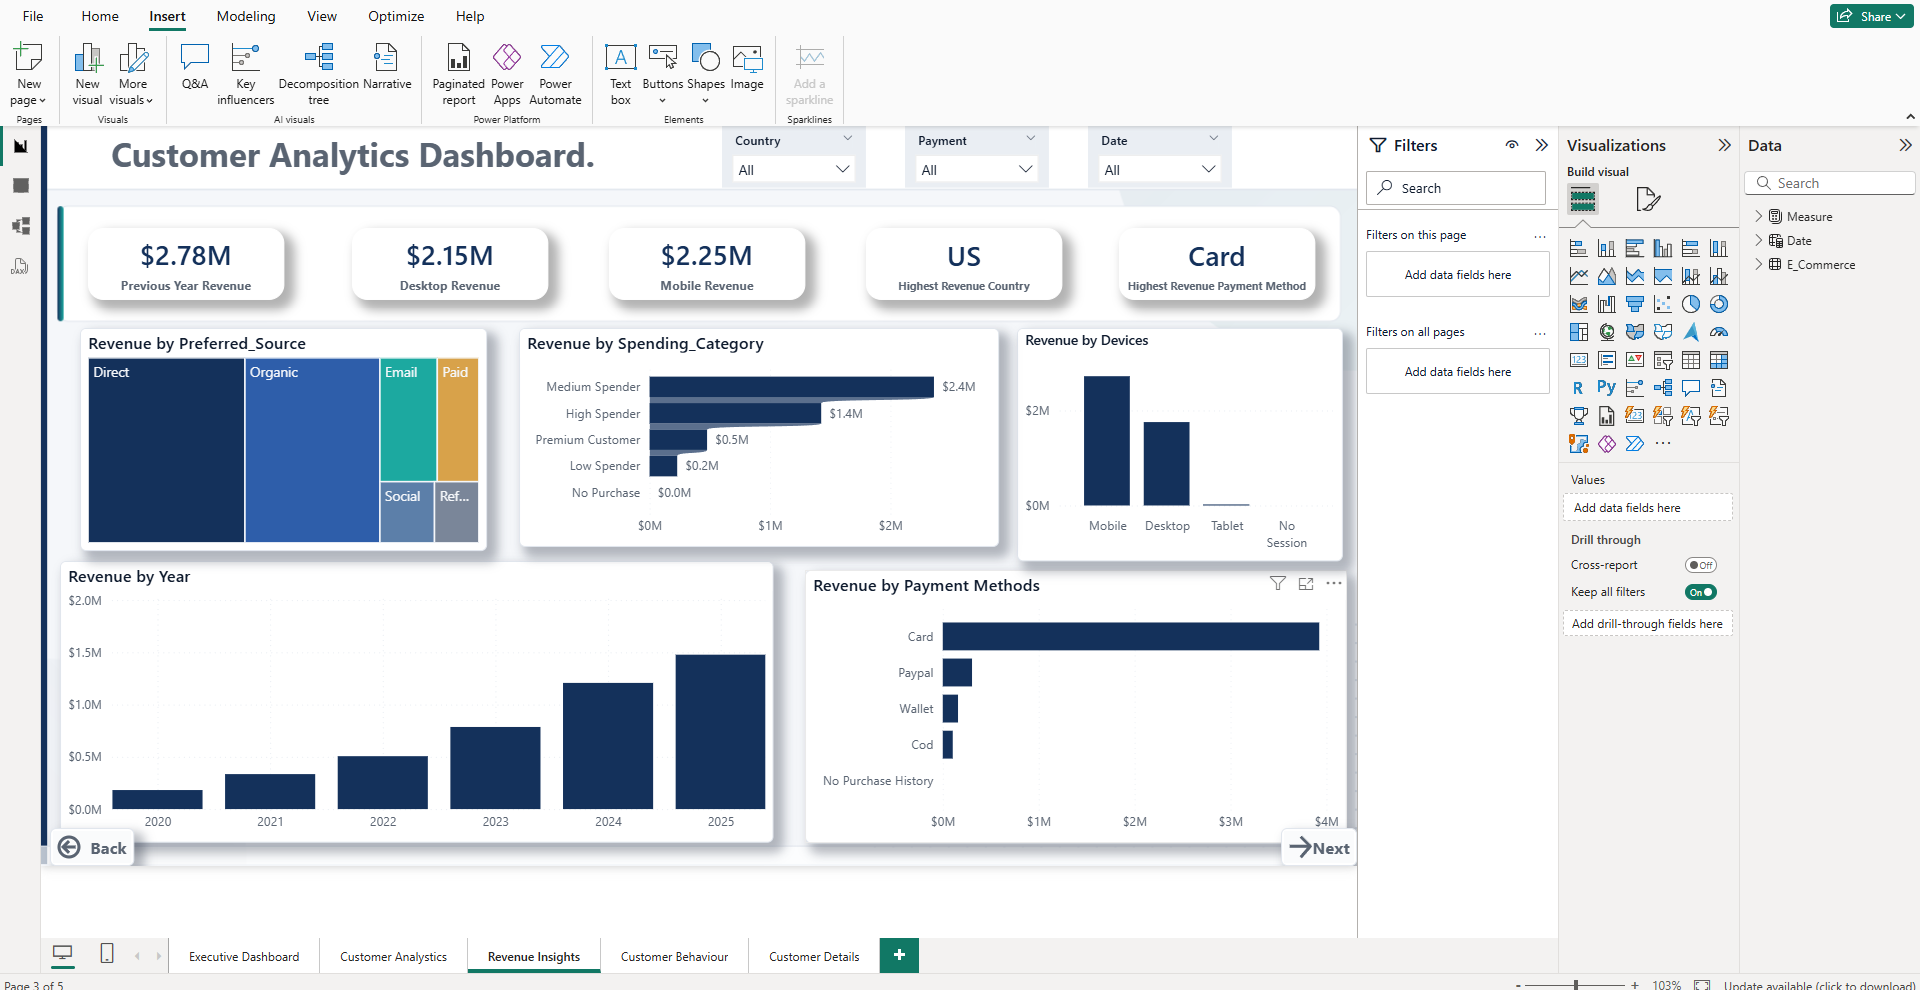

What the dashboard file says about the page in this screenshot:
{"tool":"powerbi","page":{"name":"Revenue Insights","canvas":[1280,720],"ordinal":2},"visuals":[{"type":"textbox","box":[63.2,0,541.8,63.2],"z":0},{"type":"clusteredColumnChart","title":" Revenue by Year","fields":{"Y":["Measure.Total Revenue"],"Category":["Date.Year"]},"box":[18.5,423.1,694.5,274.3],"z":1000},{"type":"card","fields":{"Values":["Measure.Previous Year Revenue"]},"box":[45.7,99.2,190.6,70],"z":2000},{"type":"card","fields":{"Values":["Measure.Highest Revenue Country"]},"box":[802.4,99.2,190.6,70],"z":3000},{"type":"card","fields":{"Values":["Measure.Highest Revenue Payment Method"]},"box":[1048.5,99.2,190.6,70],"z":4000},{"type":"card","fields":{"Values":["Measure.Desktop Revenue"]},"box":[302.5,99.2,190.6,70],"z":5000},{"type":"card","fields":{"Values":["Measure.Mobile Revenue"]},"box":[552.5,99.2,190.6,70],"z":6000},{"type":"barChart","title":"Revenue by Payment Methods","fields":{"Y":["Measure.Total Revenue"],"Category":["E_Commerce.Preferred_Payment"]},"box":[743.1,431.9,527.2,265.5],"z":7000},{"type":"clusteredColumnChart","title":"Revenue by Devices","fields":{"Category":["E_Commerce.Preferred_Device_Sess"],"Y":["Measure.Total Revenue"]},"box":[949.3,196.5,317.1,226.6],"z":8000},{"type":"barChart","title":" Revenue by Spending_Category","fields":{"Y":["Measure.Total Revenue"],"Category":["E_Commerce.Spending_Category"]},"box":[464.9,196.5,466.9,213],"z":9000},{"type":"treemap","title":" Revenue by Preferred_Source","fields":{"Group":["E_Commerce.Preferred_Source"],"Values":["Measure.Total Revenue"]},"box":[37.9,196.5,395.9,216.9],"z":10000},{"type":"slicer","fields":{"Values":["E_Commerce.Country"]},"box":[662.4,0,140.1,60.3],"z":11000},{"type":"slicer","fields":{"Values":["E_Commerce.Preferred_Payment"]},"box":[840.4,0,140.1,60.3],"z":12000},{"type":"slicer","fields":{"Values":["E_Commerce.Date"]},"box":[1018.4,0,140.1,60.3],"z":13000},{"type":"actionButton","box":[1206.1,682.8,73.9,37],"z":13001},{"type":"actionButton","box":[8.8,682.8,81.7,37],"z":13002}]}

Visuals, with their boxes on the page's 1280x720 design canvas (x1, y1, x2, y2). These are canvas units, not pixel positions in the 1920x990 screenshot, which may show the page scaled, cropped or inside an application window:
textbox: [left=63, top=0, right=605, bottom=63]
" Revenue by Year" clusteredColumnChart: [left=18, top=423, right=713, bottom=697]
card - Measure.Previous Year Revenue: [left=46, top=99, right=236, bottom=169]
card - Measure.Highest Revenue Country: [left=802, top=99, right=993, bottom=169]
card - Measure.Highest Revenue Payment Method: [left=1048, top=99, right=1239, bottom=169]
card - Measure.Desktop Revenue: [left=302, top=99, right=493, bottom=169]
card - Measure.Mobile Revenue: [left=552, top=99, right=743, bottom=169]
"Revenue by Payment Methods" barChart: [left=743, top=432, right=1270, bottom=697]
"Revenue by Devices" clusteredColumnChart: [left=949, top=196, right=1266, bottom=423]
" Revenue by Spending_Category" barChart: [left=465, top=196, right=932, bottom=410]
" Revenue by Preferred_Source" treemap: [left=38, top=196, right=434, bottom=413]
slicer - E_Commerce.Country: [left=662, top=0, right=802, bottom=60]
slicer - E_Commerce.Preferred_Payment: [left=840, top=0, right=980, bottom=60]
slicer - E_Commerce.Date: [left=1018, top=0, right=1158, bottom=60]
actionButton: [left=1206, top=683, right=1280, bottom=720]
actionButton: [left=9, top=683, right=90, bottom=720]
